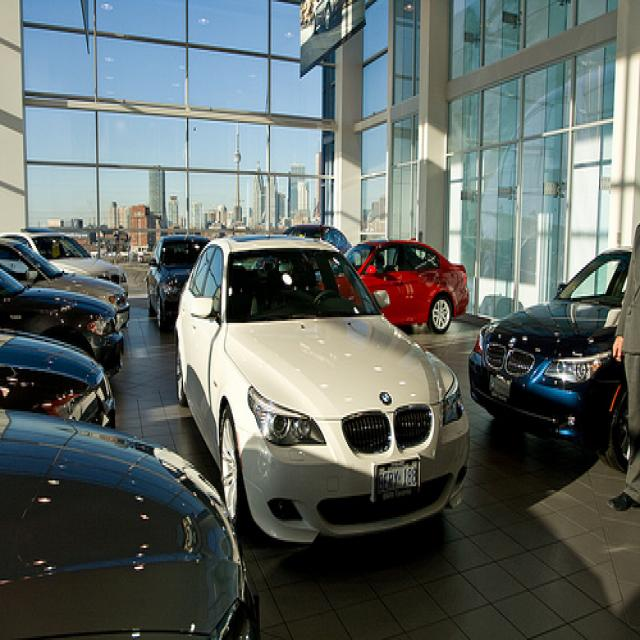Car: (173, 243, 473, 556), (466, 232, 640, 453), (315, 228, 472, 333), (0, 334, 130, 438), (0, 288, 124, 352), (0, 237, 133, 284)
